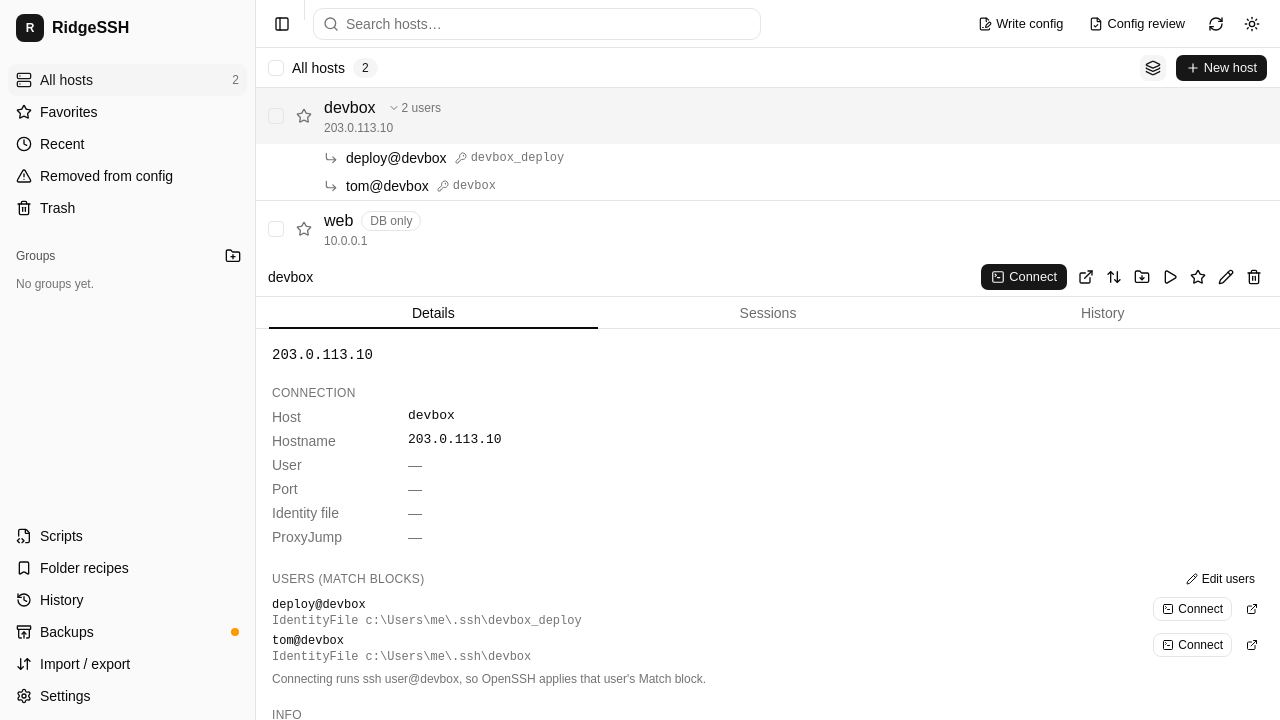
Test: per-user Match blocks › show in the details panel and open transfers as that user
Expected: the list named "Users of devbox" is shown, [324, 150, 564, 194]
Click the button with aria-label "Connect as deploy" at [1193, 609], box [1153, 597, 1232, 621]
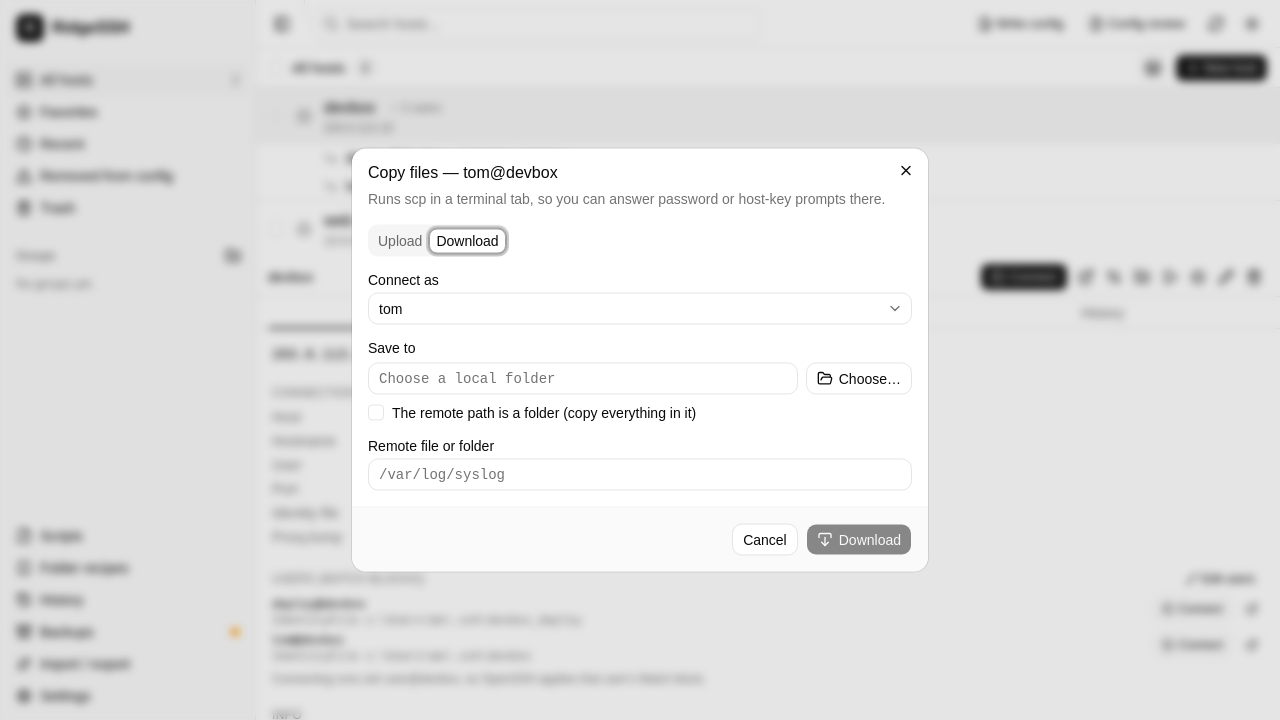
Expected: the text "deploy@devbox" is shown, [346, 148, 447, 168]
Expected: the dropdown named "Connect as" reads "tom", [368, 292, 912, 324]
